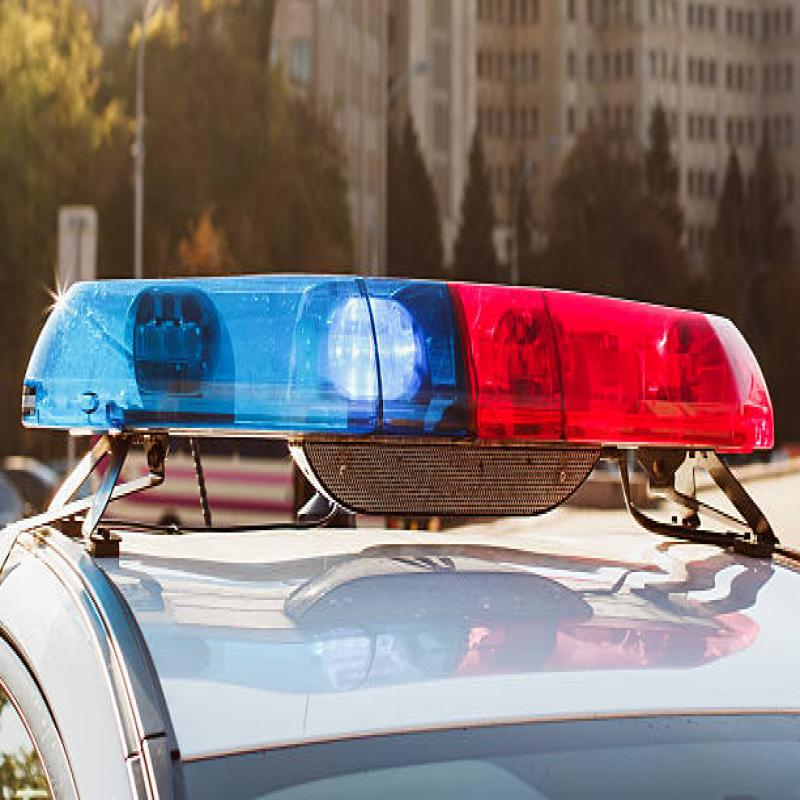AmbulanceSiren: (14, 226, 800, 598)
